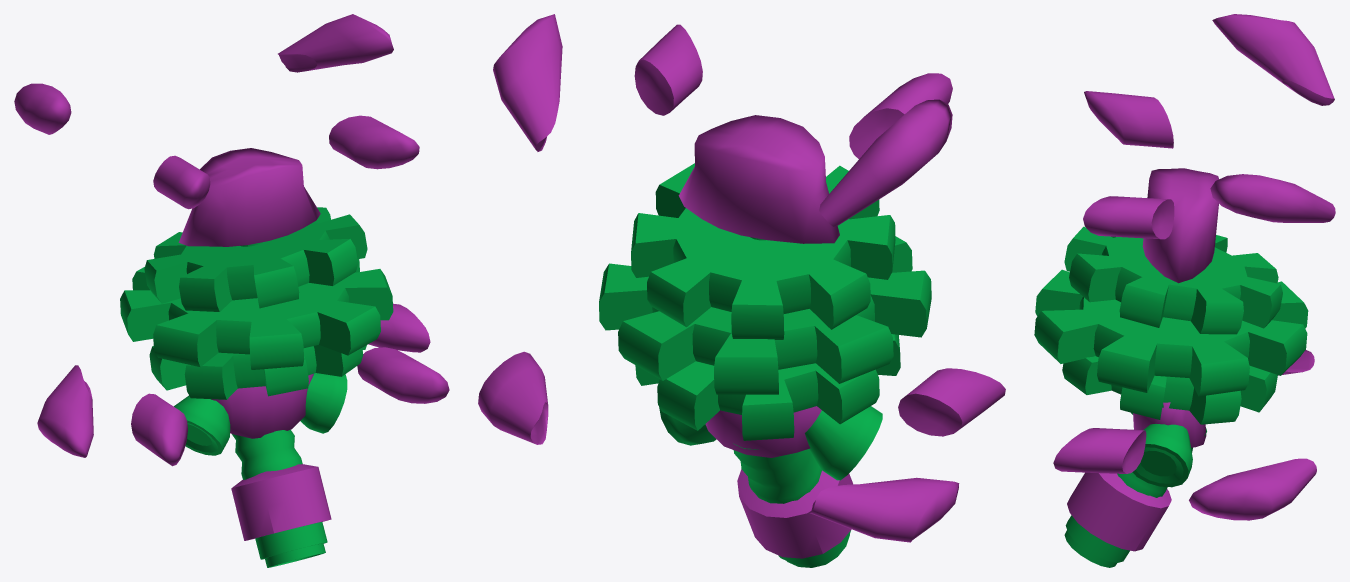
The model's file is CameraBot-Unity.fbx.
3 renders of one model, left to right at view 1: azimuth 30°, elevation 25°; view 2: azimuth 150°, elevation 25°; view 3: azimuth 270°, elevation 25°, orthographic. The views are drawn at different scales.
Parts seen in each view (by area): view 1: Gears4, Gears3, Back, Gears, SpiderHead, FrountLeftLeg3, FrountLeftLeg4, FrountLeftLeg1, CameraBotChest, FrountLeftLeg6, FrountLeftLeg8, Speaker_2 (+6 smaller); view 2: Gears3, Gears4, Back, Gears, FrountLeftLeg5, FrountLeftLeg4, FrountLeftLeg3, SpiderHead, FrountLeftLeg8, FrountLeftLeg2, FrountLeftLeg6, Speaker_2 (+5 smaller); view 3: Gears4, Gears3, Back, Gears, FrountLeftLeg5, SpiderHead, FrountLeftLeg2, FrountLeftLeg3, FrountLeftLeg7, FrountLeftLeg1, FrountLeftLeg6, Speaker_1 (+4 smaller).
Part boxes in pixels (x1=…): Gears4: x1=120, y1=259, x2=393, y2=369; Gears3: x1=144, y1=207, x2=367, y2=311; Back: x1=178, y1=148, x2=320, y2=246; Gears: x1=149, y1=345, x2=366, y2=399; SpiderHead: x1=231, y1=464, x2=331, y2=540; FrountLeftLeg3: x1=278, y1=14, x2=393, y2=72; FrountLeftLeg4: x1=37, y1=365, x2=93, y2=457; FrountLeftLeg1: x1=357, y1=347, x2=449, y2=403; CameraBotChest: x1=210, y1=373, x2=313, y2=438; FrountLeftLeg6: x1=329, y1=115, x2=419, y2=169; FrountLeftLeg8: x1=131, y1=393, x2=187, y2=466; Speaker_2: x1=174, y1=395, x2=230, y2=455; Gears3: x1=631, y1=163, x2=895, y2=339; Gears4: x1=599, y1=236, x2=931, y2=394; Back: x1=678, y1=115, x2=839, y2=243; Gears: x1=635, y1=334, x2=900, y2=440; FrountLeftLeg5: x1=819, y1=99, x2=952, y2=226; FrountLeftLeg4: x1=810, y1=477, x2=959, y2=542; FrountLeftLeg3: x1=493, y1=14, x2=562, y2=151; SpiderHead: x1=737, y1=469, x2=853, y2=558; FrountLeftLeg8: x1=898, y1=368, x2=1005, y2=436; FrountLeftLeg2: x1=478, y1=351, x2=548, y2=444; FrountLeftLeg6: x1=634, y1=24, x2=702, y2=115; Speaker_2: x1=805, y1=406, x2=882, y2=480; Gears4: x1=1034, y1=269, x2=1308, y2=396; Gears3: x1=1064, y1=226, x2=1282, y2=334; Back: x1=1142, y1=168, x2=1218, y2=283; Gears: x1=1062, y1=356, x2=1277, y2=424; FrountLeftLeg5: x1=1212, y1=14, x2=1334, y2=105; SpiderHead: x1=1067, y1=472, x2=1171, y2=551; FrountLeftLeg2: x1=1189, y1=458, x2=1316, y2=520; FrountLeftLeg3: x1=1210, y1=174, x2=1335, y2=222; FrountLeftLeg7: x1=1084, y1=91, x2=1173, y2=148; FrountLeftLeg1: x1=1053, y1=428, x2=1146, y2=473; FrountLeftLeg6: x1=1083, y1=196, x2=1174, y2=239; Speaker_1: x1=1132, y1=424, x2=1192, y2=487.
Size of the model in its own units: 61.59 by 73.07 by 42.74.
